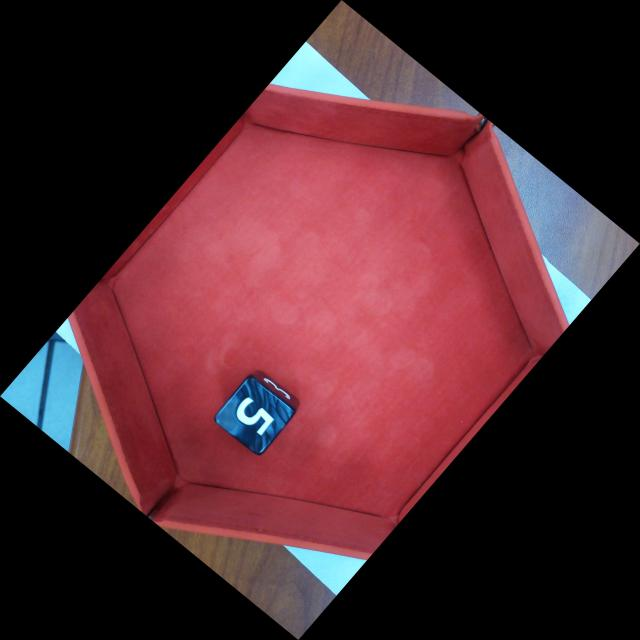dice: (212, 374, 300, 459)
